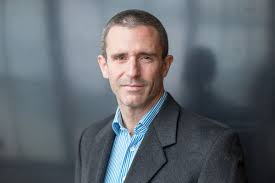No-Glasses: (107, 49, 160, 68)
